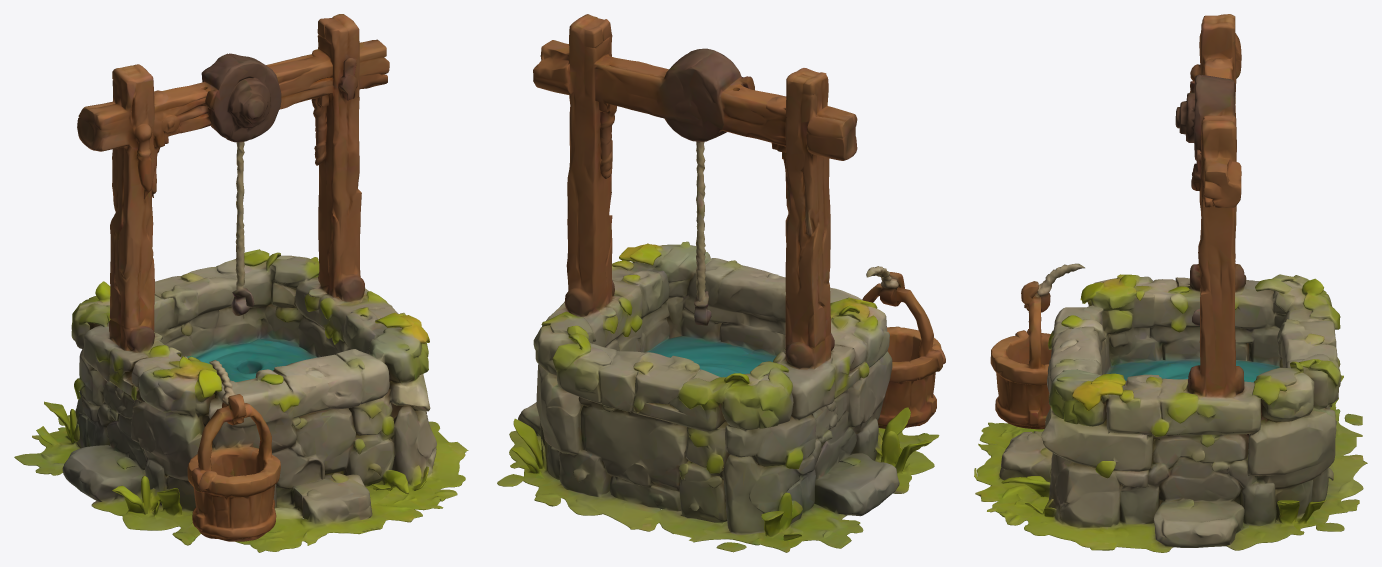
The model's file is well.glb.
3 renders of one model, left to right at view 1: azimuth 30°, elevation 25°; view 2: azimuth 150°, elevation 25°; view 3: azimuth 270°, elevation 25°, orthographic. The views are drawn at different scales.
Visible parts, largest first — view 1: tripo_node_9b7ce8a7-f150-4cd8-83ec-5d6def738b49; view 2: tripo_node_9b7ce8a7-f150-4cd8-83ec-5d6def738b49; view 3: tripo_node_9b7ce8a7-f150-4cd8-83ec-5d6def738b49.
Boxes of the visible parts, bbox=[...] form: tripo_node_9b7ce8a7-f150-4cd8-83ec-5d6def738b49: bbox=[14, 14, 468, 552]; tripo_node_9b7ce8a7-f150-4cd8-83ec-5d6def738b49: bbox=[497, 14, 945, 552]; tripo_node_9b7ce8a7-f150-4cd8-83ec-5d6def738b49: bbox=[974, 14, 1367, 552].
Size of the model in its own units: 0.9125 by 1 by 0.8866.
1 material, 1 textured.
